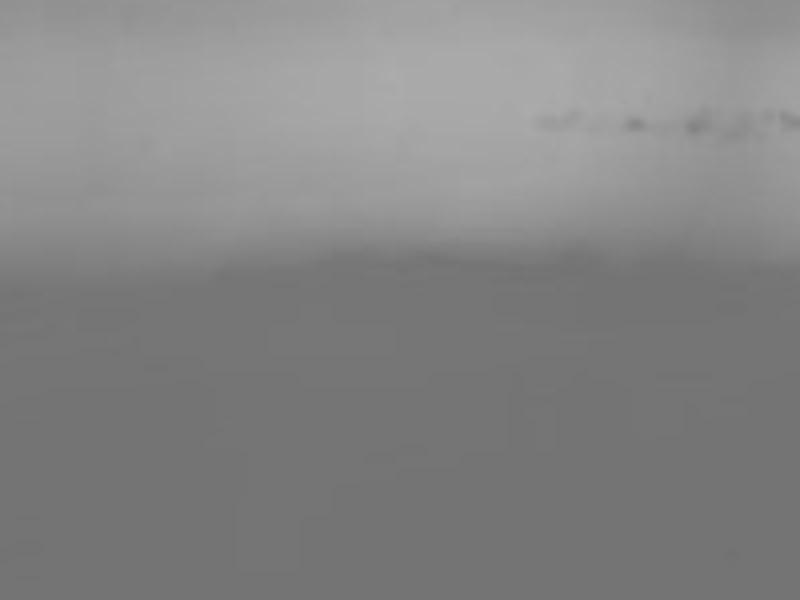defect: (533, 109, 577, 131), (772, 107, 799, 138), (718, 124, 749, 143), (684, 113, 710, 134), (619, 116, 647, 135), (136, 132, 154, 149), (733, 109, 751, 123)
